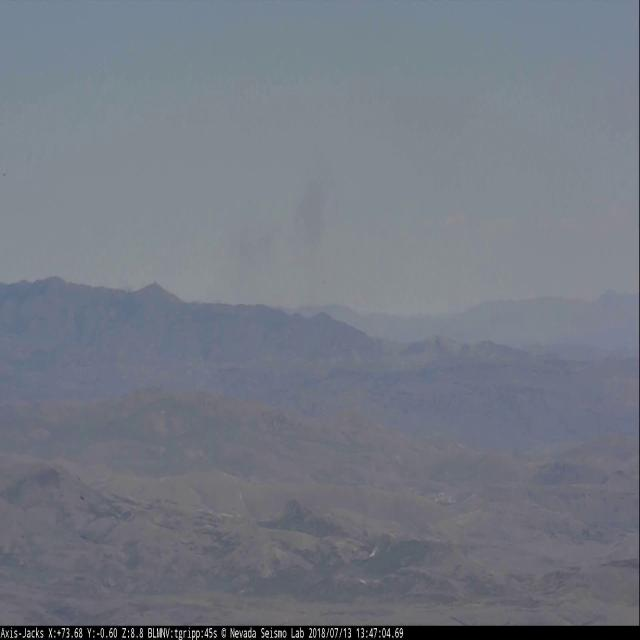smoke: (378, 274, 626, 377), (210, 164, 350, 312)
